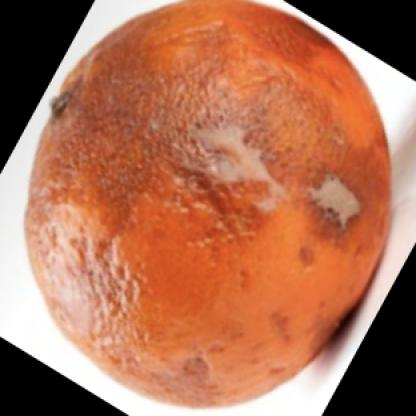rotten: (24, 1, 390, 404)
